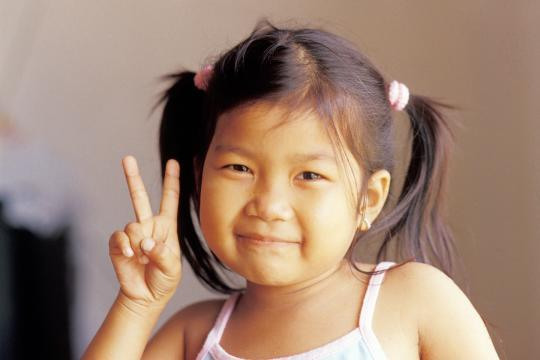peace_sign: (101, 153, 200, 311)
